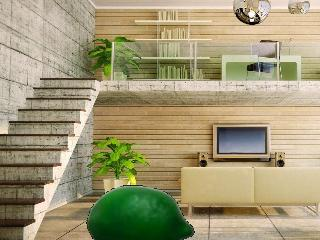lime: (87, 185, 194, 240)
